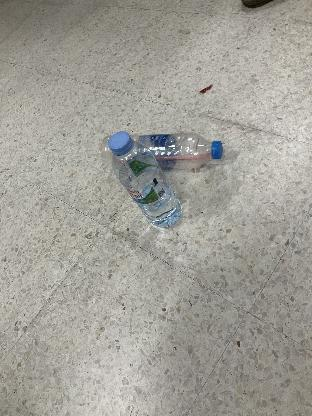Plastic Bottle: (108, 132, 182, 228)
